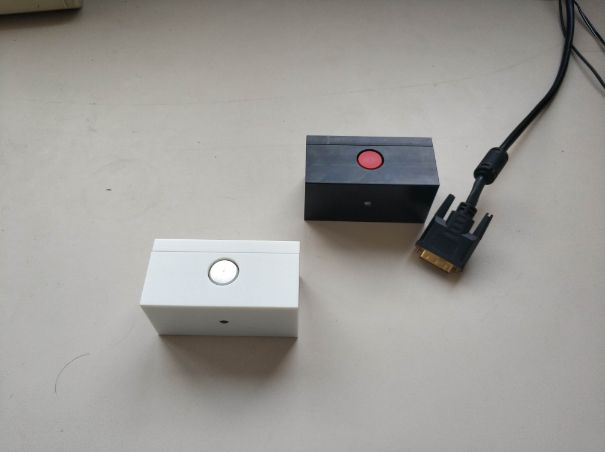black+black+red: (303, 131, 441, 224)
white+white+silver: (138, 236, 306, 342)
